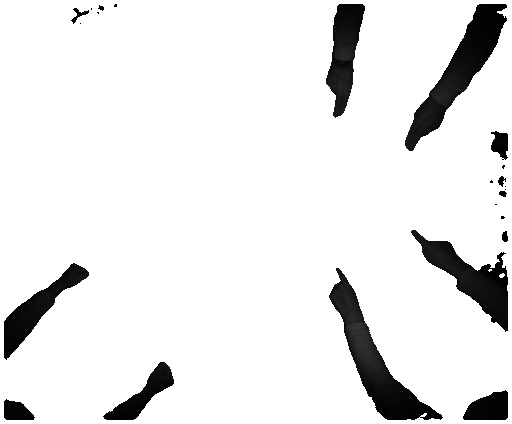fist: (59, 256, 95, 291), (144, 360, 175, 397)
hand: (408, 224, 462, 273), (400, 101, 446, 151), (328, 264, 364, 322), (320, 66, 359, 119)
